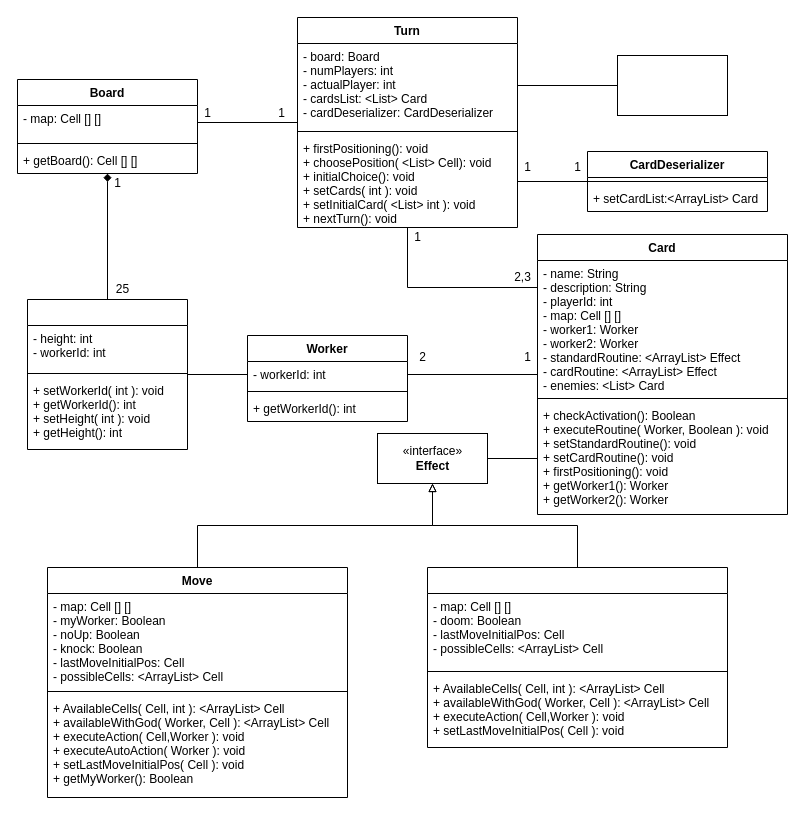
Image size: 805x818. Some labels were removed from this diagram. The box of each missing label's shape, as (x1, y1, x2, y2) in pixels:
Build: (426, 566, 728, 748)
Cell: (26, 298, 188, 450)
Controller: (616, 54, 728, 116)
